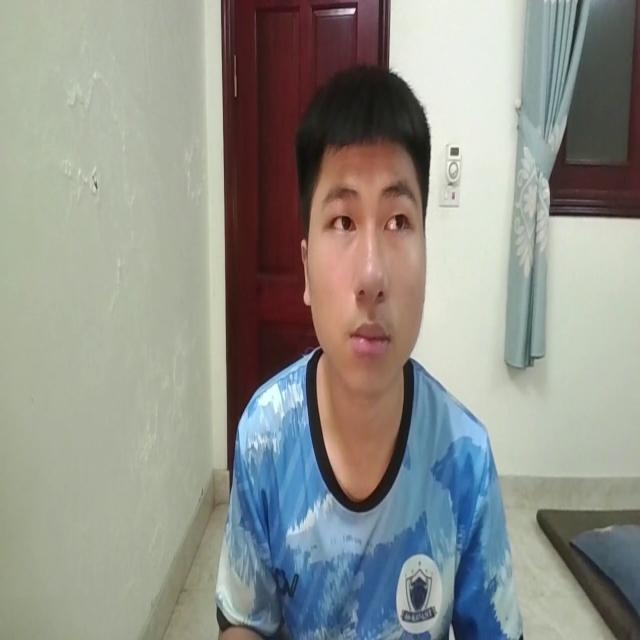student: (207, 55, 522, 640)
